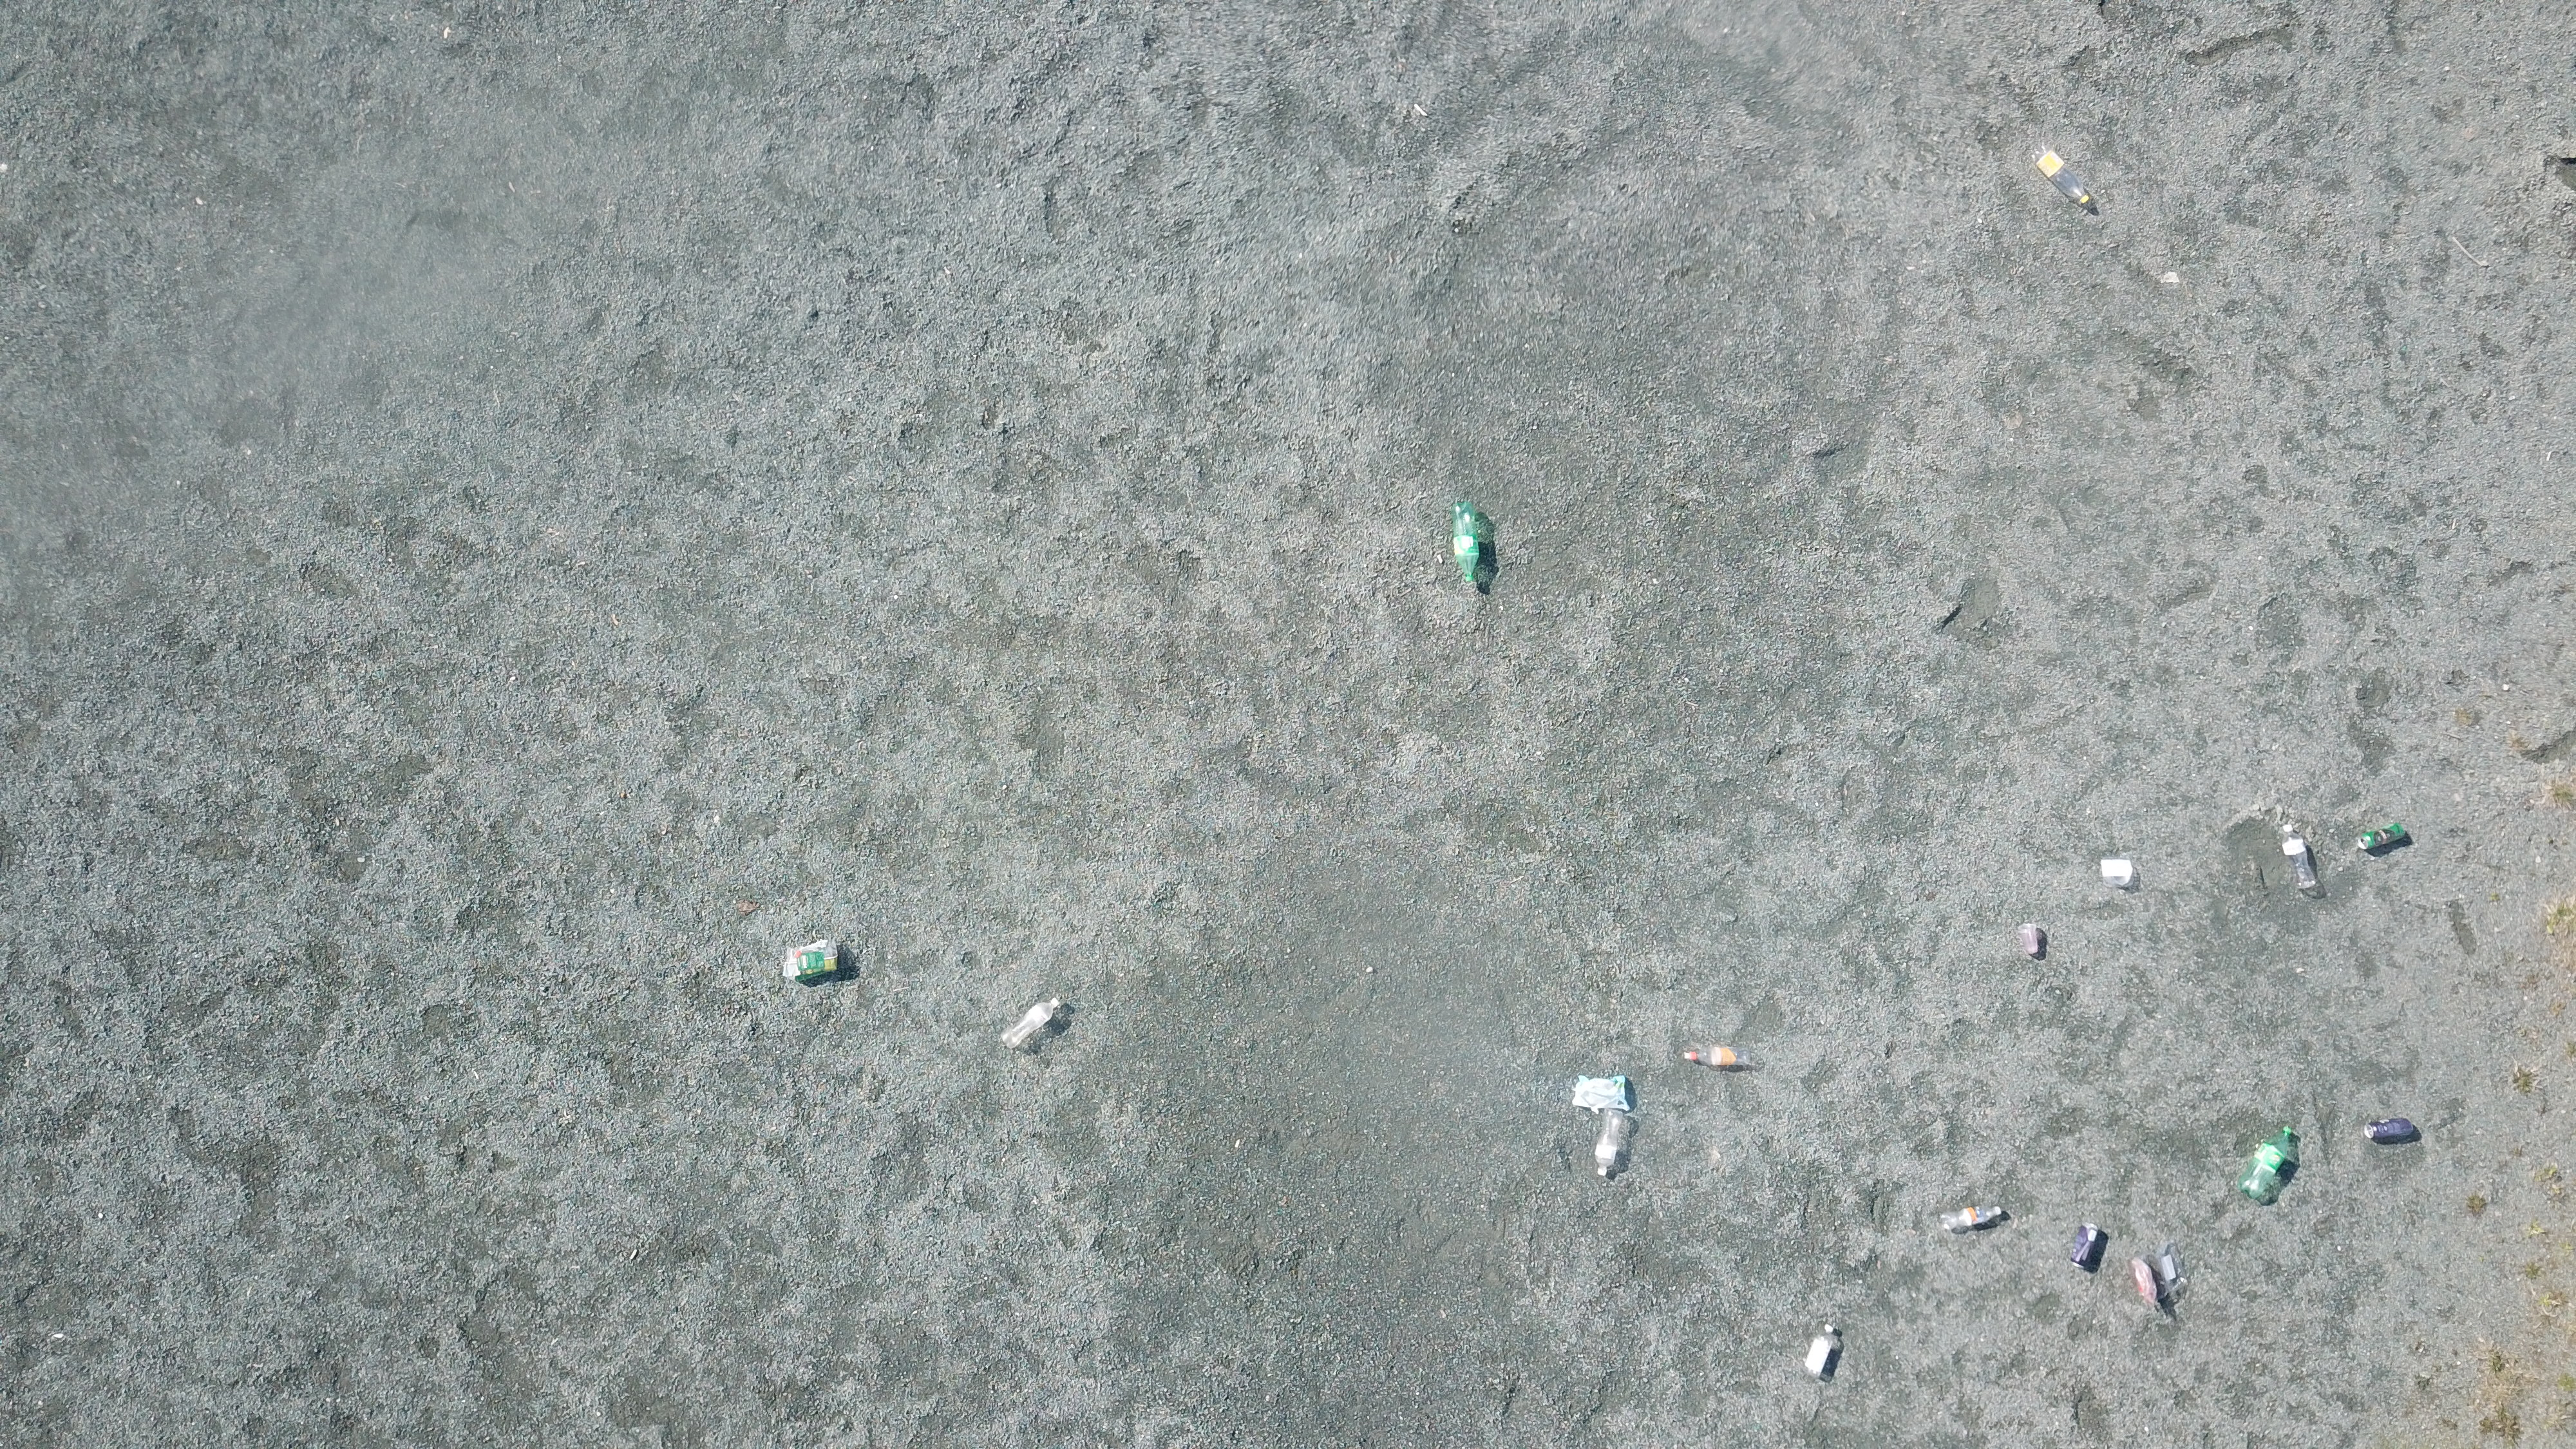Can: (2070, 1223, 2100, 1270), (2357, 823, 2403, 853), (2364, 1118, 2411, 1143)
Plastic: (2128, 1247, 2190, 1311), (784, 938, 840, 985), (1571, 1076, 1631, 1111), (2098, 856, 2135, 890), (2017, 924, 2038, 957)
PlasticBottle: (2236, 1125, 2295, 1200), (2029, 145, 2091, 207), (1001, 996, 1062, 1051), (1449, 501, 1483, 586), (2281, 823, 2316, 892), (1594, 1108, 1624, 1178), (1939, 1205, 2001, 1231), (1805, 1323, 1833, 1378), (1683, 1047, 1752, 1067)
